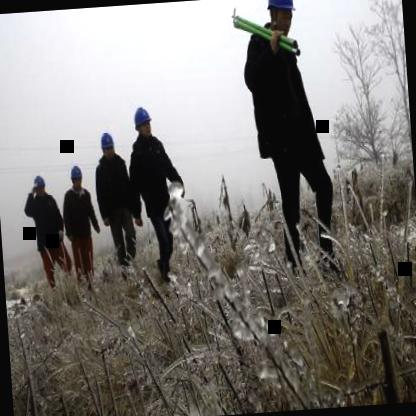helmet: (264, 0, 299, 39), (132, 102, 156, 140), (29, 170, 50, 202), (99, 126, 116, 164), (68, 161, 86, 192)
